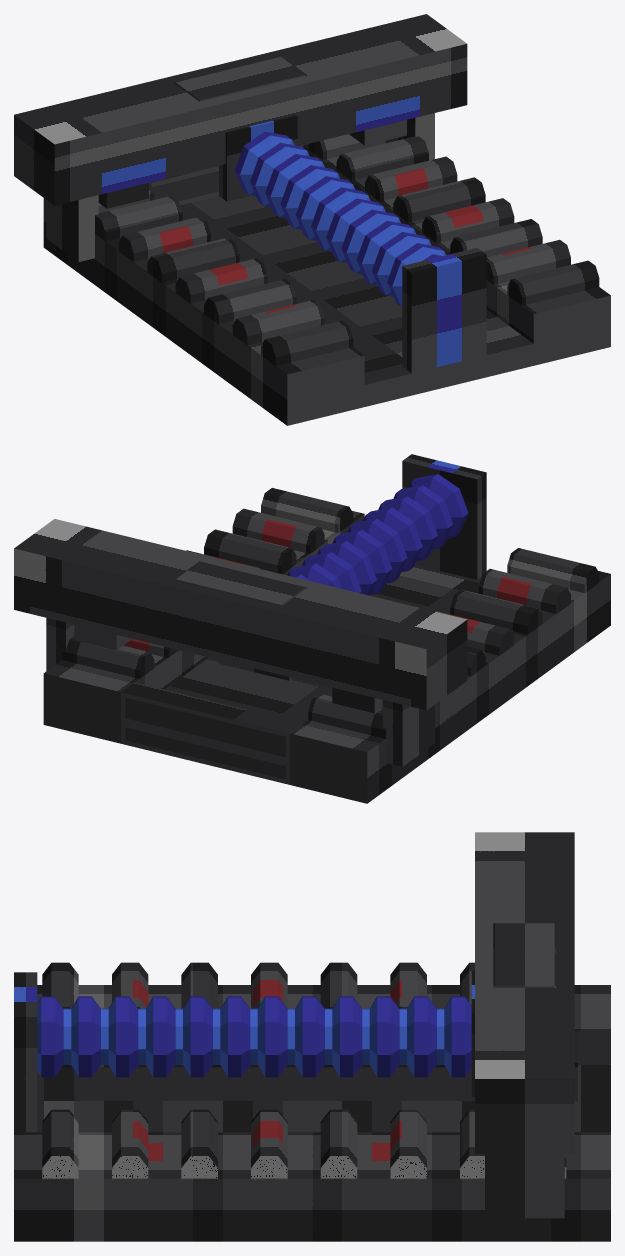
File: mass_driver.glb
The picture shows the model from 3 angles, top to bottom: view 1: azimuth 30°, elevation 25°; view 2: azimuth 150°, elevation 25°; view 3: azimuth 270°, elevation 25°; orthographic projection. The views are drawn at different scales.
Parts seen in each view (by area): view 1: Rail_Bed, Pusher_Housing, Side_Rail_Ribs, Central_Ribbed_Actuator, Actuator_Fixed_Anchor, Service_Hatch, External_Guide_Left, Carriage_Drive_Coupling, External_Guide_Right; view 2: Pusher_Housing, Rail_Bed, Side_Rail_Ribs, Central_Ribbed_Actuator, Actuator_Fixed_Anchor, Service_Hatch, External_Guide_Left, External_Guide_Right; view 3: Rail_Bed, Central_Ribbed_Actuator, Pusher_Housing, Side_Rail_Ribs, External_Guide_Right, Service_Hatch, Actuator_Fixed_Anchor.
Part boxes in pixels (x1,y1,x2,y2): Rail_Bed: [43, 144, 610, 425]; Pusher_Housing: [14, 14, 467, 208]; Side_Rail_Ribs: [95, 134, 599, 366]; Central_Ribbed_Actuator: [234, 131, 445, 306]; Actuator_Fixed_Anchor: [402, 248, 486, 373]; Service_Hatch: [175, 57, 305, 101]; External_Guide_Left: [46, 195, 98, 261]; Carriage_Drive_Coupling: [219, 115, 297, 201]; External_Guide_Right: [397, 113, 434, 160]; Pusher_Housing: [14, 519, 467, 713]; Rail_Bed: [43, 511, 610, 803]; Side_Rail_Ribs: [62, 488, 599, 738]; Central_Ribbed_Actuator: [287, 474, 468, 595]; Actuator_Fixed_Anchor: [402, 454, 486, 579]; Service_Hatch: [175, 561, 305, 606]; External_Guide_Left: [382, 700, 434, 766]; External_Guide_Right: [46, 618, 74, 670]; Rail_Bed: [14, 985, 610, 1241]; Central_Ribbed_Actuator: [37, 996, 471, 1077]; Pusher_Housing: [475, 832, 574, 1153]; Side_Rail_Ribs: [42, 962, 566, 1179]; External_Guide_Right: [485, 1154, 564, 1218]; Service_Hatch: [495, 923, 554, 987]; Actuator_Fixed_Anchor: [14, 972, 37, 1132].
Size of the model in its own units: 1.76 by 0.633 by 1.8.
Materials: 1 (1 with a texture image).
